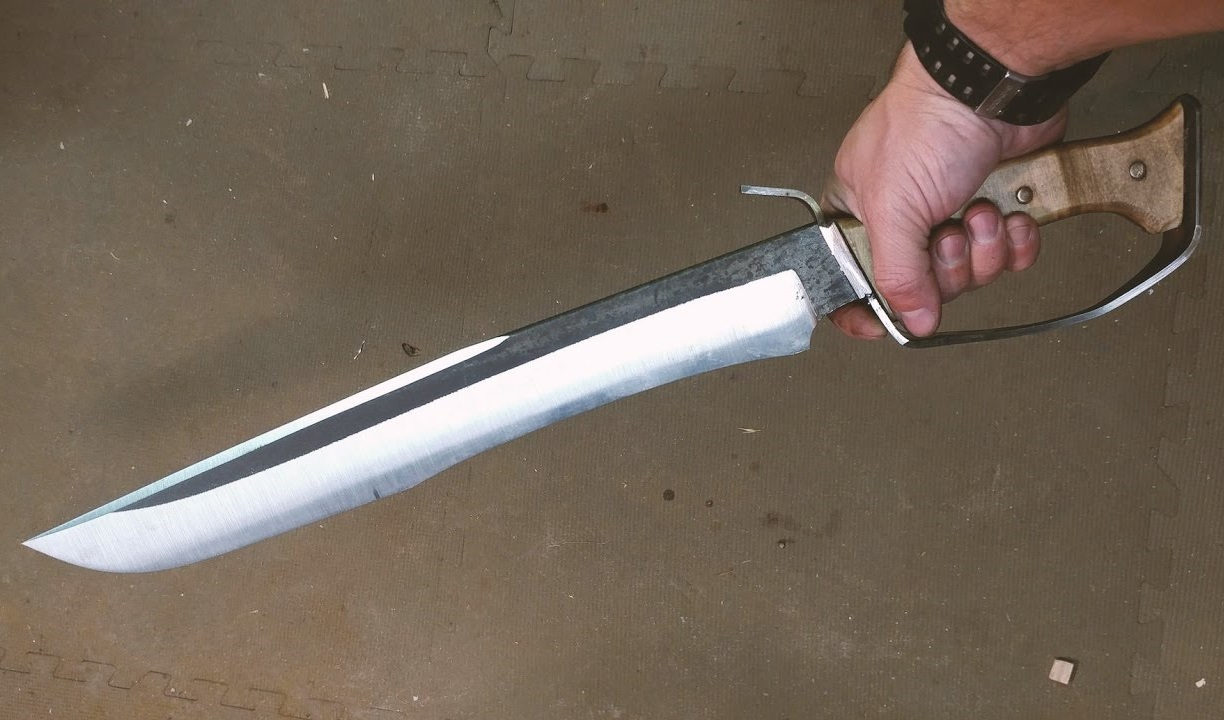knife: (13, 139, 937, 604)
